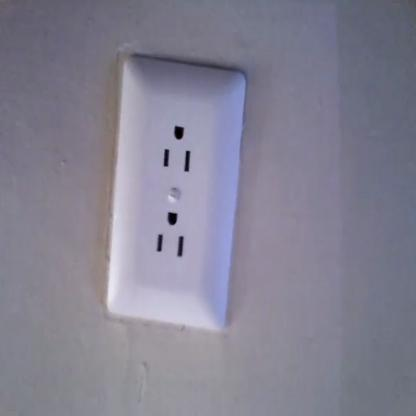OUTLET: (108, 72, 243, 318)
